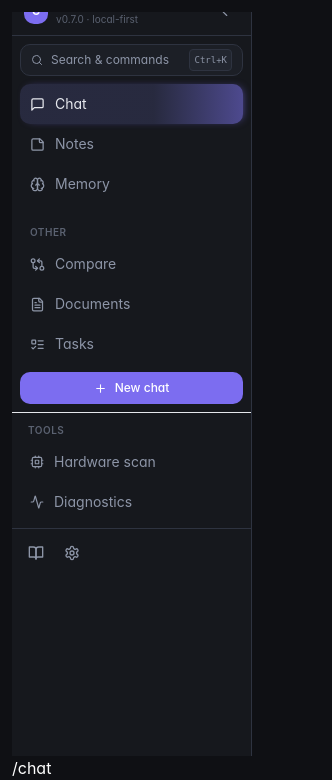
Sidebar survives a failed status fetch › renders the whole sidebar with no status card and does not throw
The width and height of the screenshot is (332, 780).
(page scrolled)
Click the button "Memory": (132, 184) top-left (20, 164), bottom-right (243, 204)
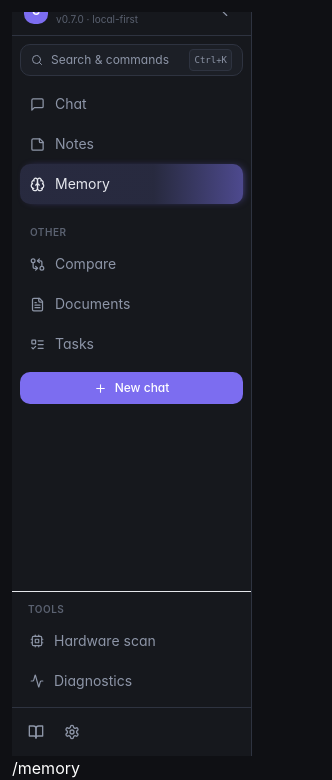
Expected: the text with test id "path" reads "/memory", top-left (12, 758), bottom-right (80, 778)
